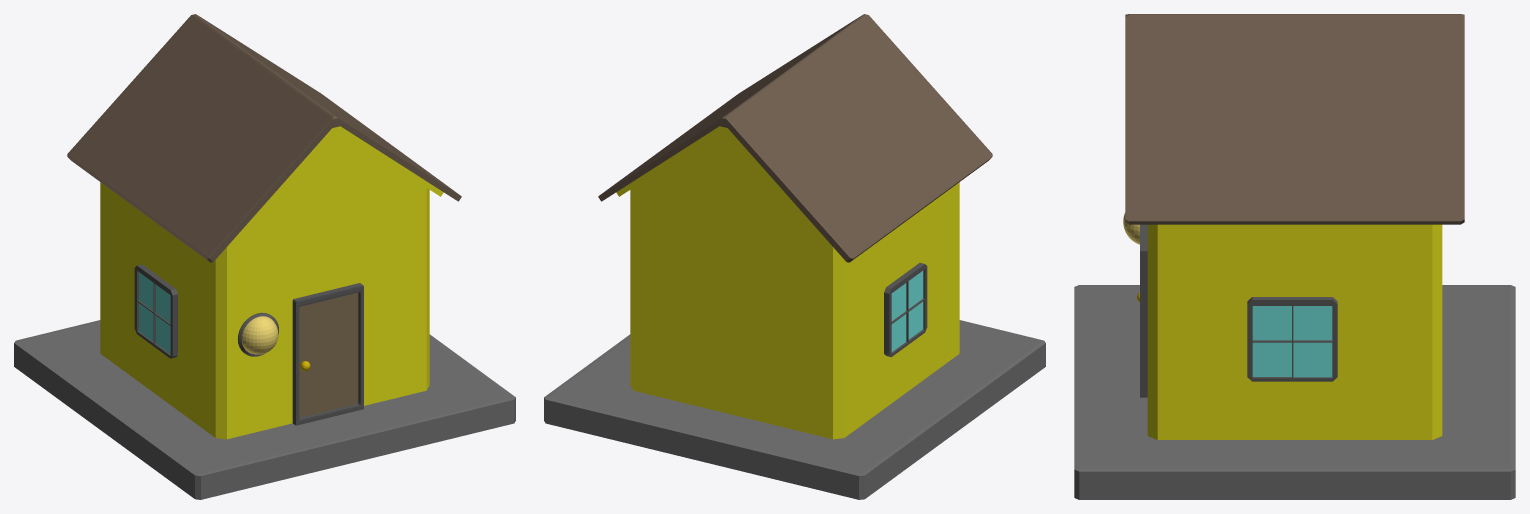
The model's file is YellowHouse.fbx.
3 renders of one model, left to right at view 1: azimuth 30°, elevation 25°; view 2: azimuth 150°, elevation 25°; view 3: azimuth 270°, elevation 25°, orthographic. The views are drawn at different scales.
Parts seen in each view (by area): view 1: Base; view 2: Base; view 3: Base.
Boxes of the visible parts, x1=… form: Base: x1=14, y1=14, x2=515, y2=499; Base: x1=544, y1=14, x2=1045, y2=499; Base: x1=1074, y1=14, x2=1515, y2=499.
Bounding box in the file's own units: 300 × 294 × 300.
